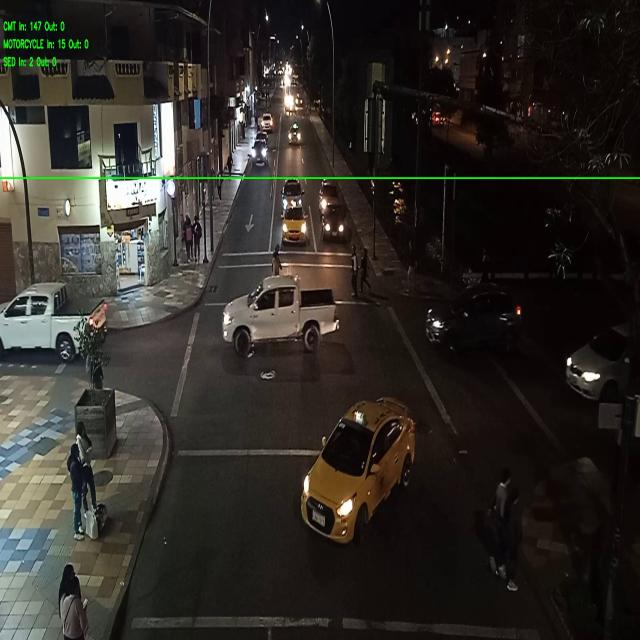CMT: (222, 275, 339, 349), (0, 282, 105, 357)
SED: (302, 401, 412, 532), (567, 322, 632, 394), (282, 208, 304, 245), (323, 208, 345, 239), (289, 126, 301, 144)
SUV: (426, 282, 520, 348), (282, 180, 302, 208), (253, 142, 267, 164), (262, 113, 272, 132)
